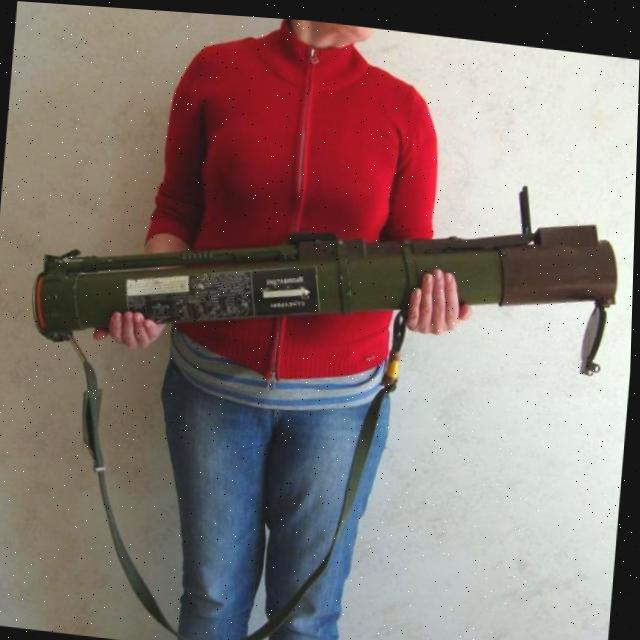rocket: (14, 128, 635, 438)
